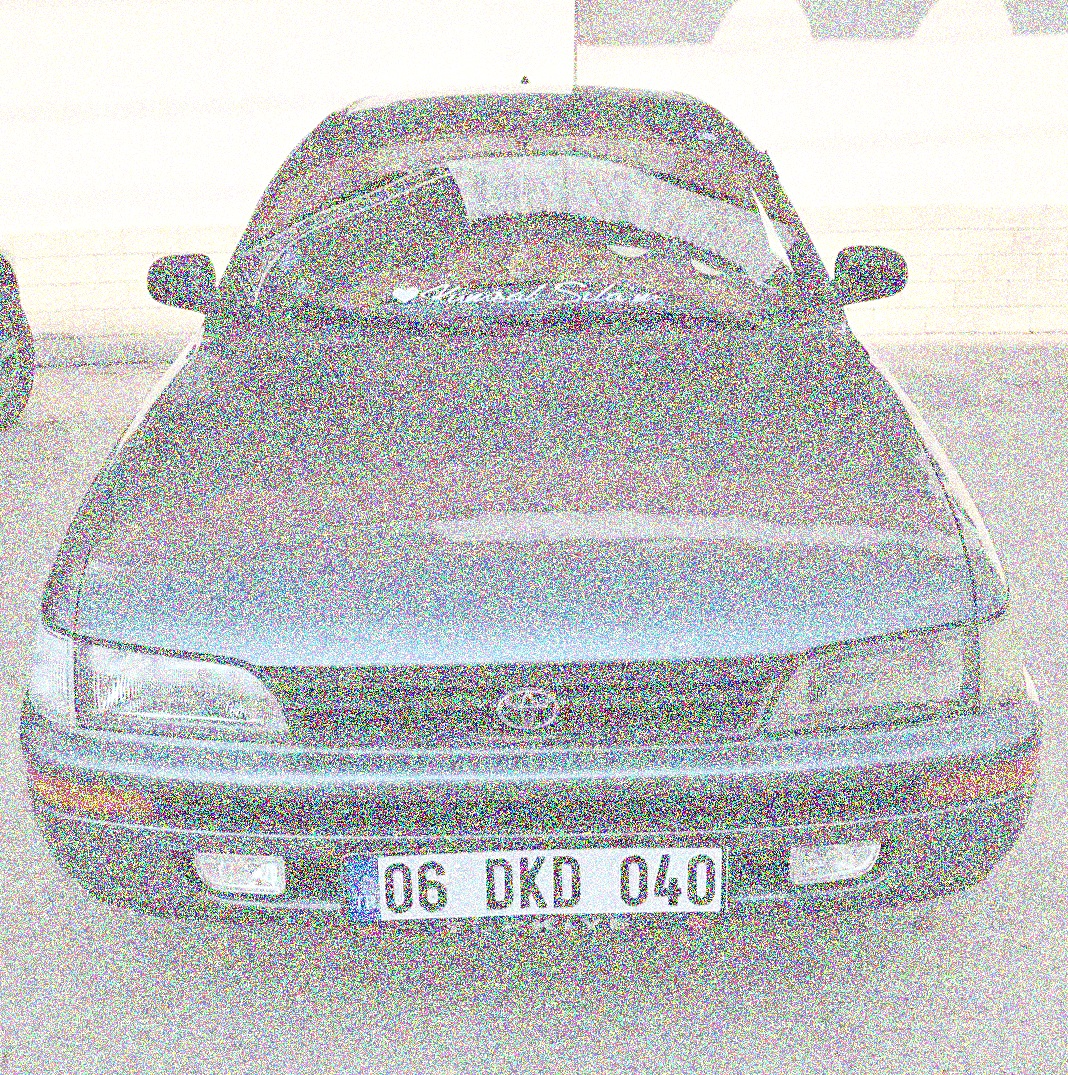plaka: (373, 827, 726, 917)
